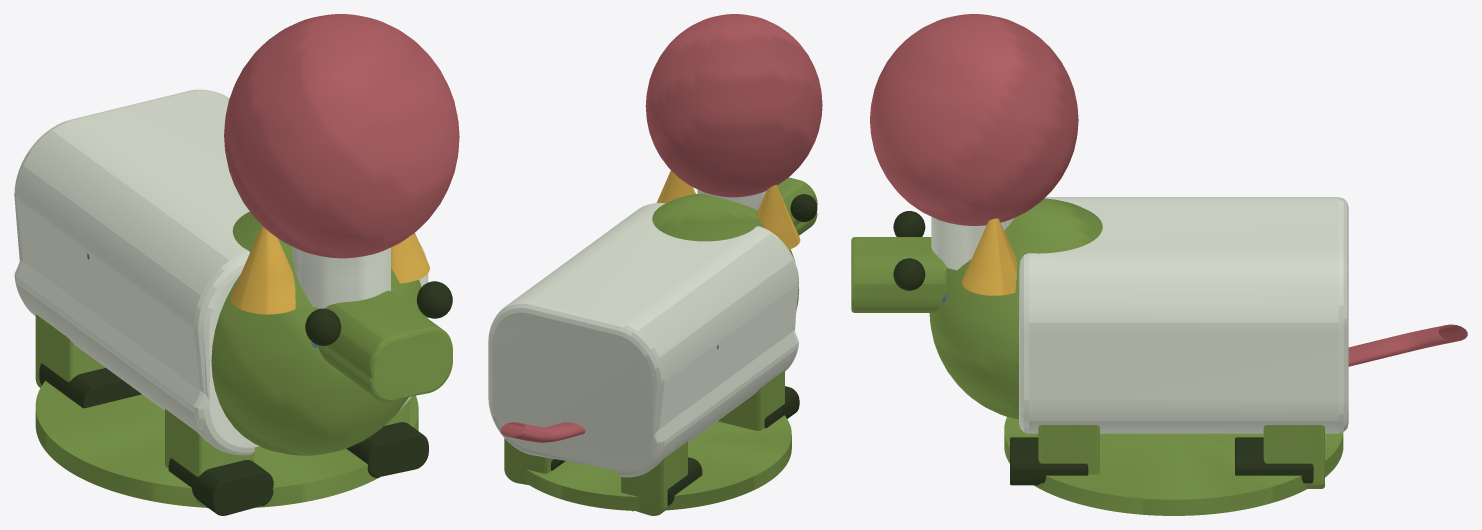
Rendered from 0850_两栖动物图鉴_木蛙.glb.
3 views of the same model, side by side, from view 1: azimuth 30°, elevation 25°; view 2: azimuth 150°, elevation 25°; view 3: azimuth 270°, elevation 25° (orthographic). The views are drawn at different scales.
Parts seen in each view (by area): view 1: card_0850; view 2: card_0850; view 3: card_0850.
Boxes of the visible parts, x1,y1,x2,y2 form: card_0850: (14, 14, 459, 515); card_0850: (488, 14, 822, 515); card_0850: (851, 14, 1467, 515).
Size of the model in its own units: 0.7048 by 1 by 1.31.
